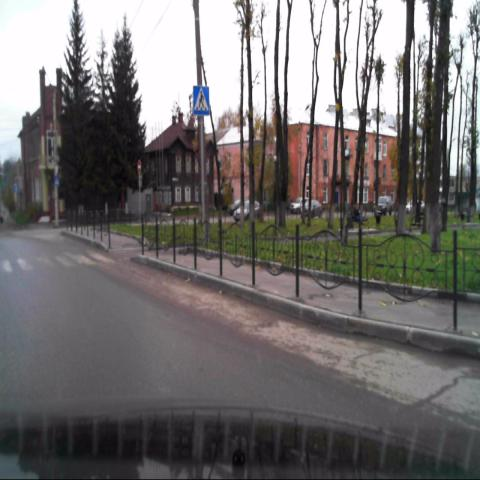5_19_1: (193, 86, 210, 115)
